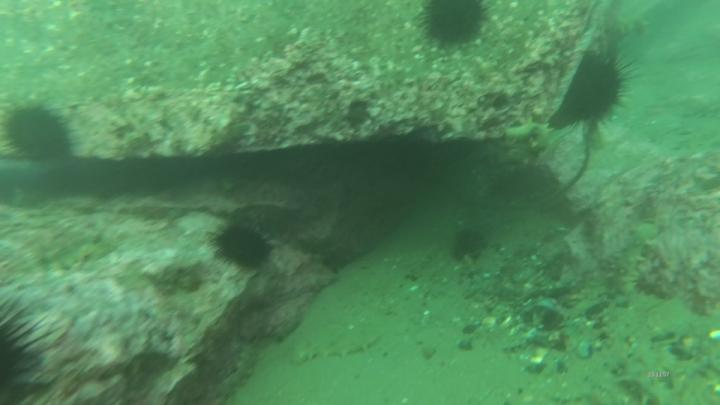echinus: (553, 42, 637, 137), (1, 104, 81, 169), (206, 215, 285, 277), (418, 2, 491, 55)
holothurian: (482, 118, 553, 180), (608, 225, 659, 302)
